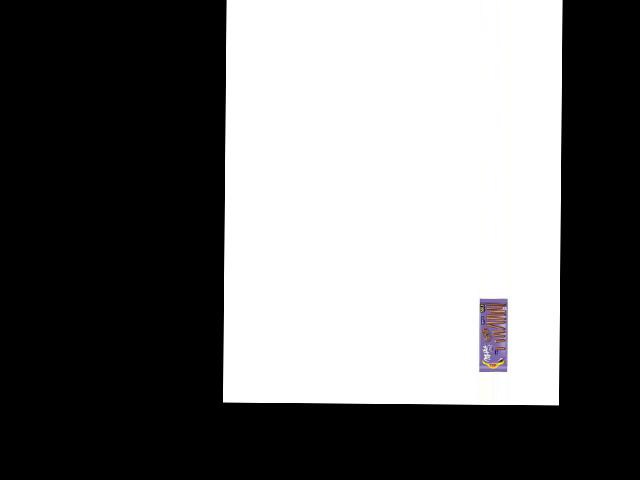chocolate: (478, 296, 511, 372)
